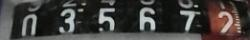digits: (138, 6, 156, 35), (178, 7, 197, 34), (97, 6, 116, 33), (216, 10, 235, 37), (59, 8, 76, 36), (21, 13, 37, 36)
